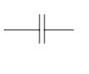Capacitor: (29, 9, 58, 46)
